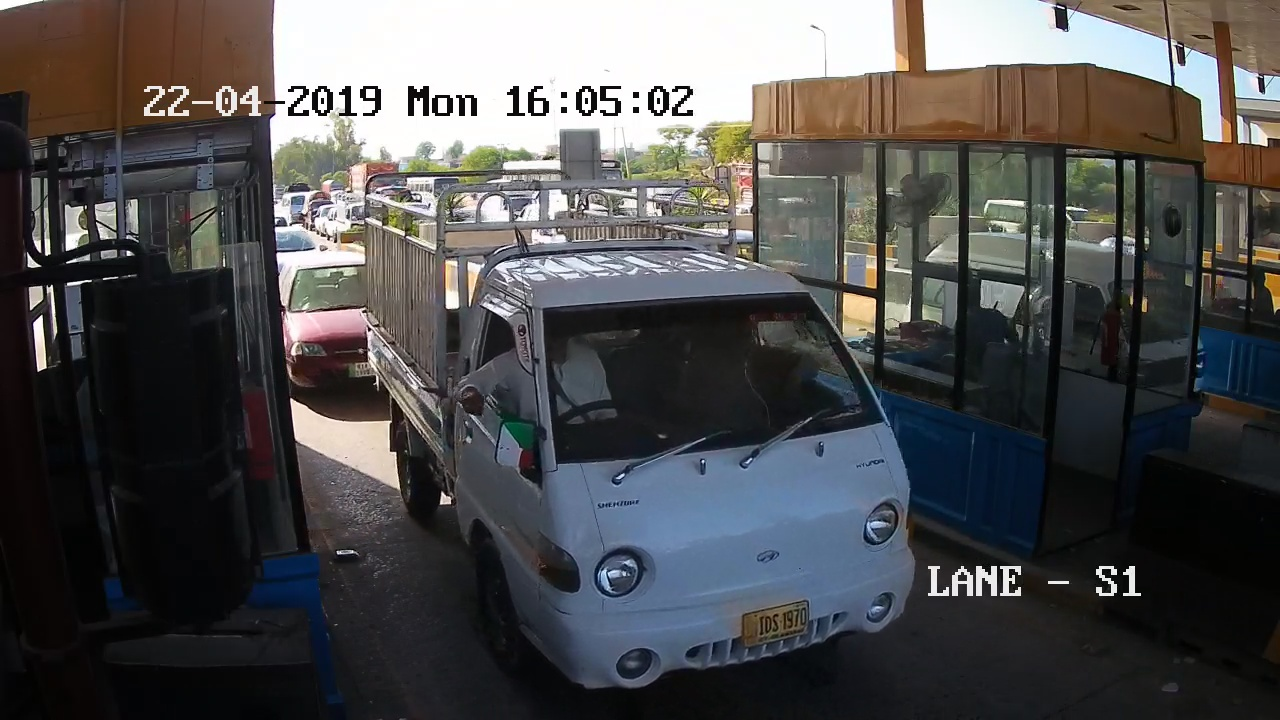Number Plate (Car): (740, 603, 813, 642), (350, 361, 374, 375)
